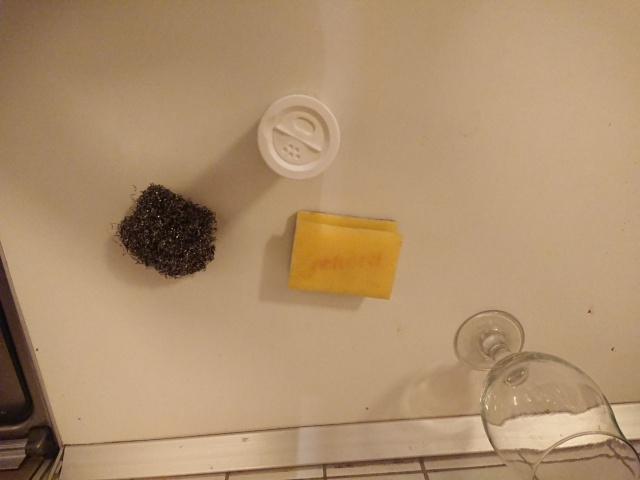Solana Pag Fine Sea Salt 250g: (253, 88, 343, 182)
